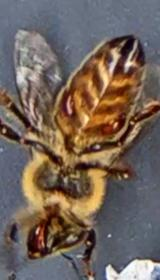varroa_mite: (100, 107, 126, 140), (57, 85, 82, 118)
